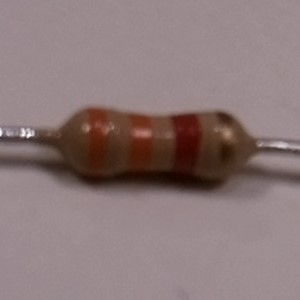gold_band: (213, 108, 242, 186)
orange_band: (126, 110, 157, 179), (84, 105, 111, 183)
red_band: (168, 110, 204, 184)
